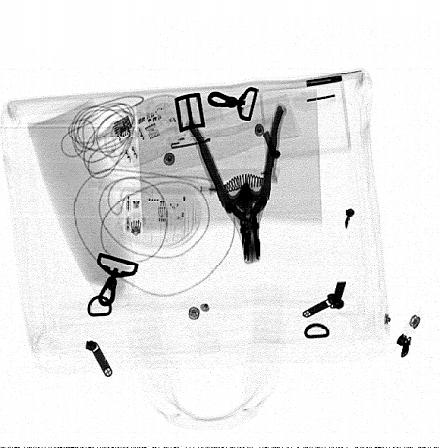Pliers: (188, 101, 285, 264)
